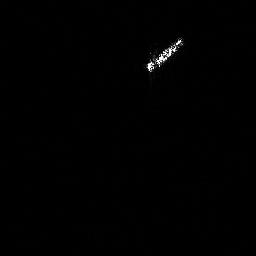ship: (146, 36, 185, 72)
